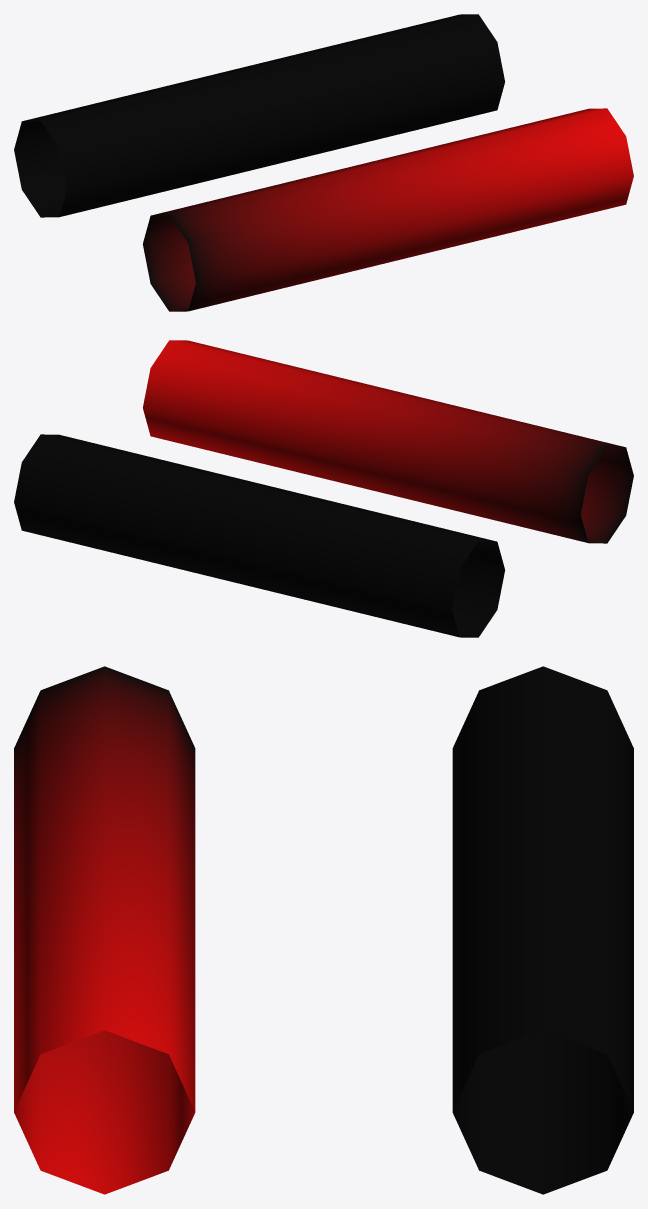
File: RailLow.fbx
3 renders of one model, top to bottom at view 1: azimuth 30°, elevation 25°; view 2: azimuth 150°, elevation 25°; view 3: azimuth 270°, elevation 25°, orthographic. The views are drawn at different scales.
Parts seen in each view (by area): view 1: RailLow; view 2: RailLow; view 3: RailLow.
Part boxes in pixels (bbox=[...]): RailLow: bbox=[14, 14, 633, 311]; RailLow: bbox=[14, 340, 633, 637]; RailLow: bbox=[14, 666, 633, 1194].
Bounding box in the file's own units: 86.4 × 18.2 × 62.2.
